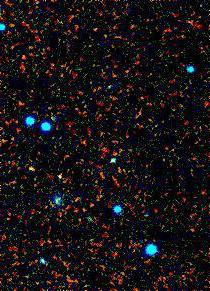star: (17, 152, 47, 182)
